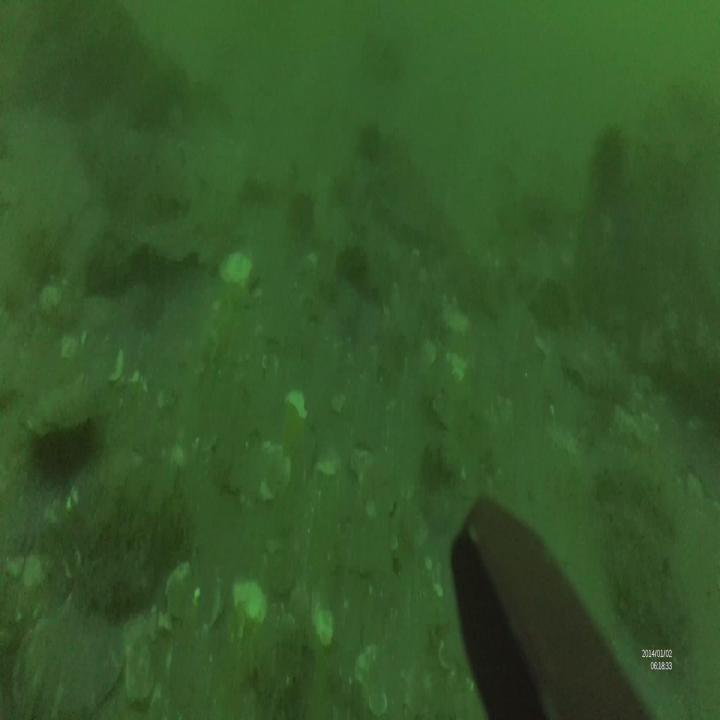echinus: (593, 120, 623, 196), (338, 242, 369, 291), (290, 191, 317, 241), (356, 119, 382, 158)
